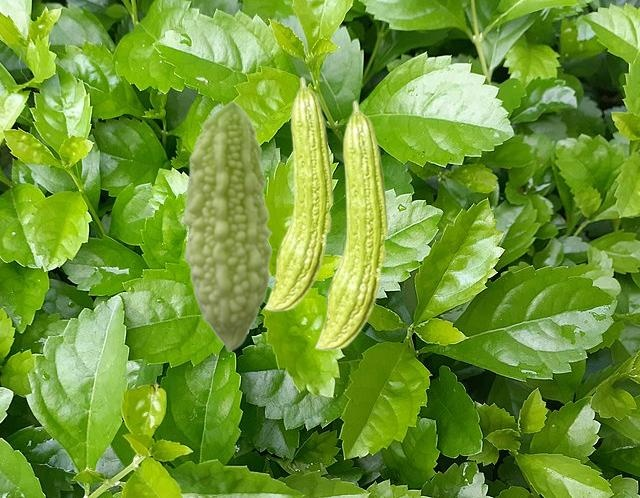ampalaya: (181, 100, 273, 352), (312, 98, 390, 353), (263, 75, 335, 314)
